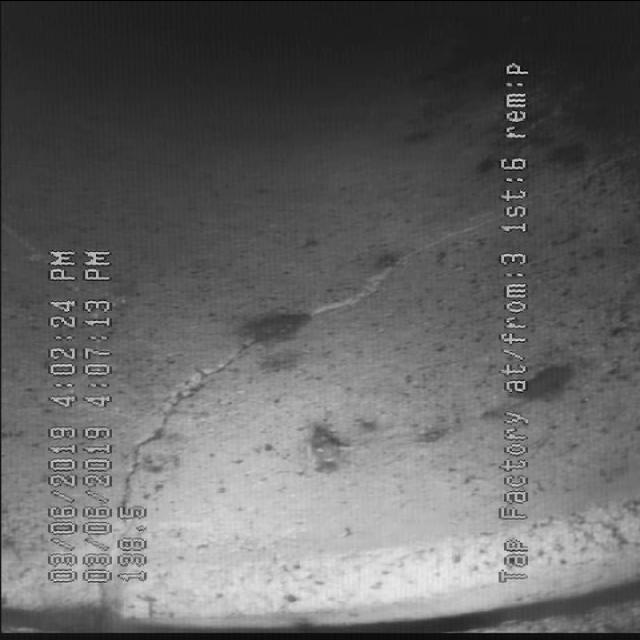Crack: (120, 250, 441, 424)
